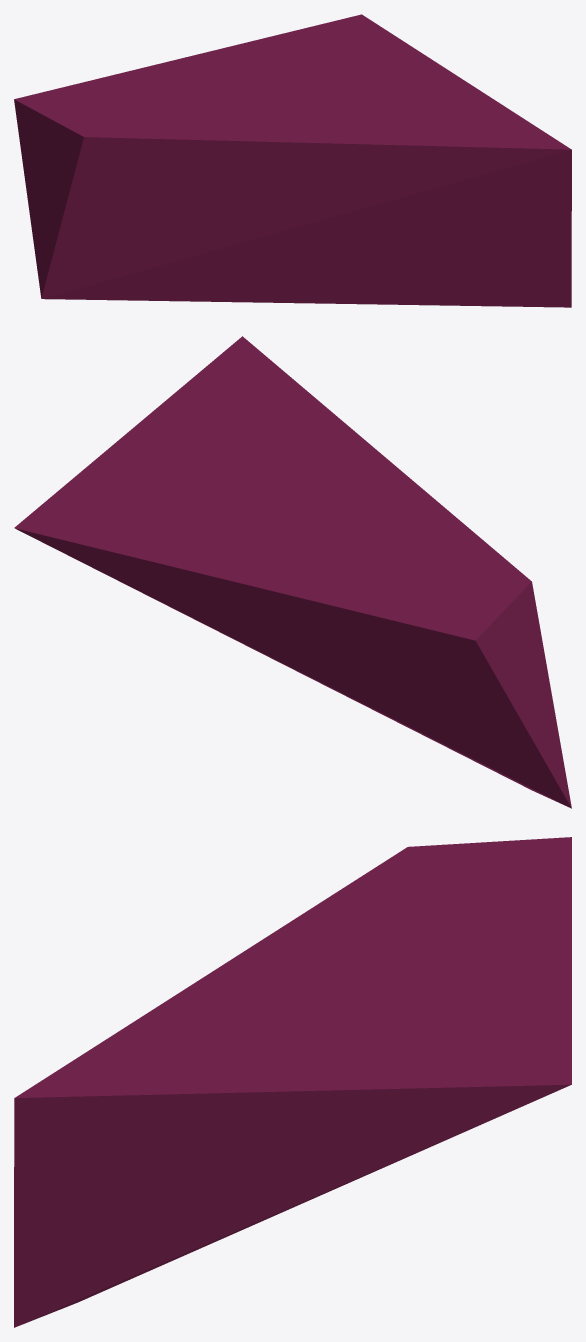
File: simple_example_hole_part_16.obj
3 renders of one model, top to bottom at view 1: azimuth 30°, elevation 25°; view 2: azimuth 150°, elevation 25°; view 3: azimuth 270°, elevation 25°, orthographic. The views are drawn at different scales.
Bounding box in the file's own units: 6.46 × 2.5 × 5.49.
